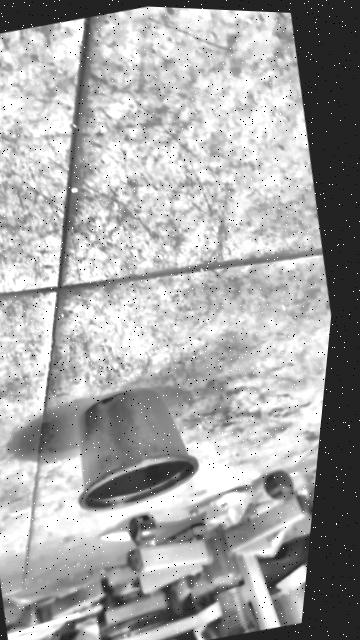pot: (55, 375, 211, 520)
